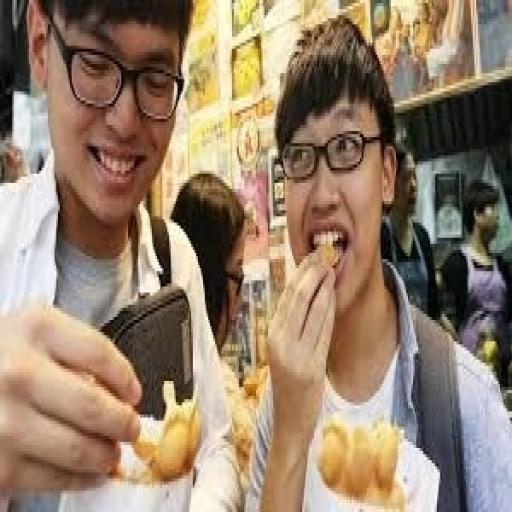eating: (242, 12, 510, 509), (0, 0, 244, 509)
